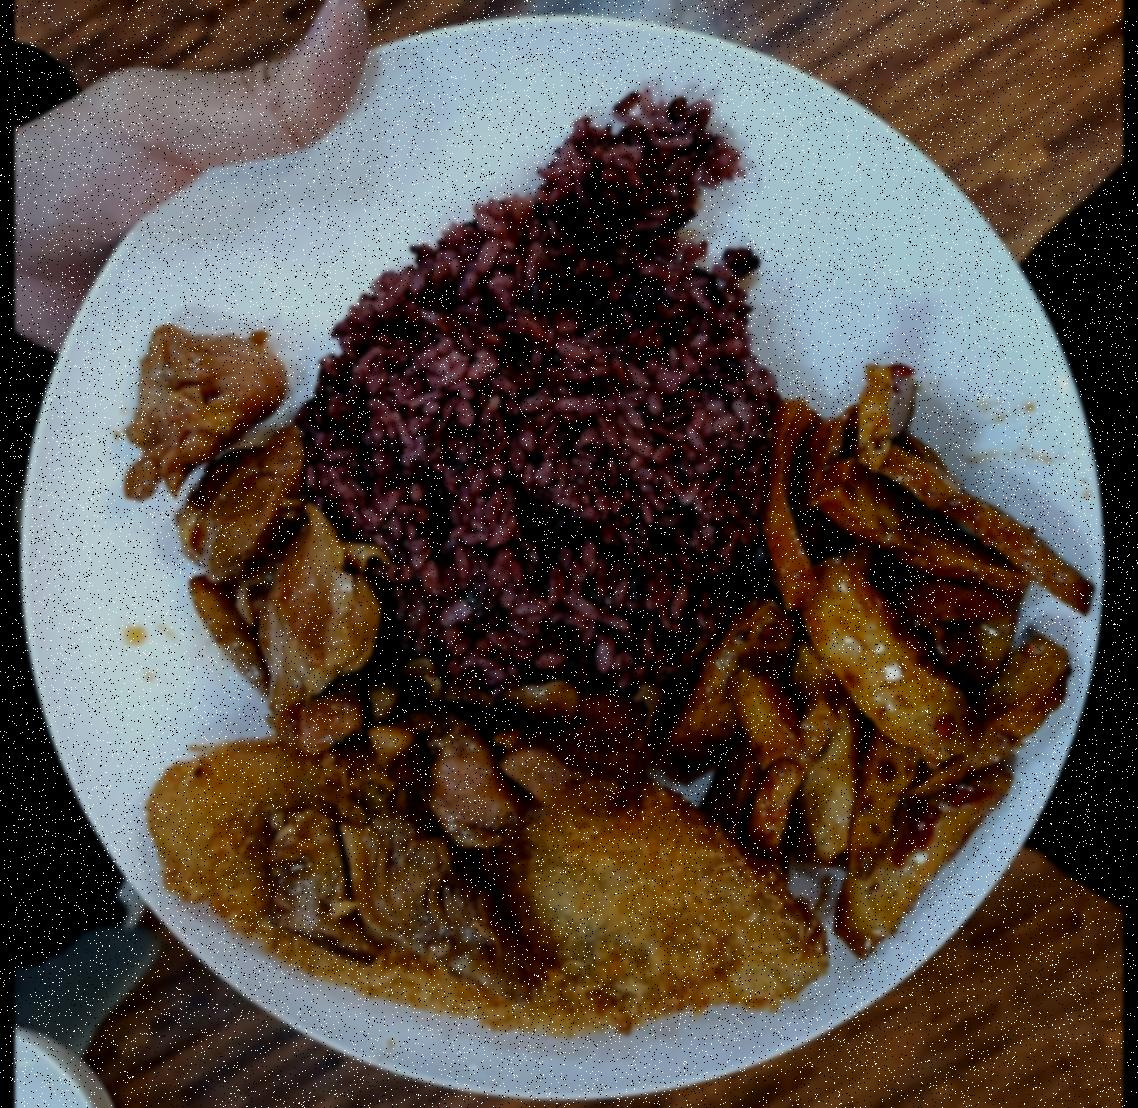fried cod steak: (128, 724, 828, 1052)
plate: (38, 7, 1110, 1108)
purple rice: (293, 108, 766, 702)
side dish: (664, 372, 1068, 910)
three cup chicken: (116, 335, 564, 944)
